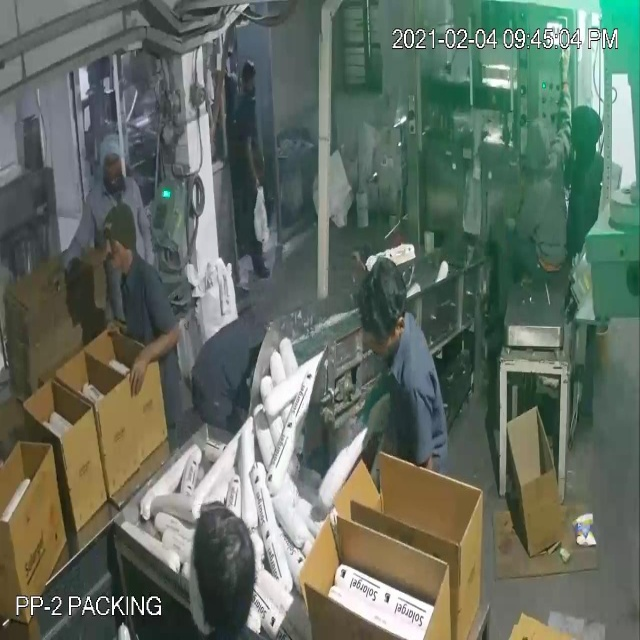Sin_guantes: (123, 322, 188, 404), (548, 32, 580, 151)
